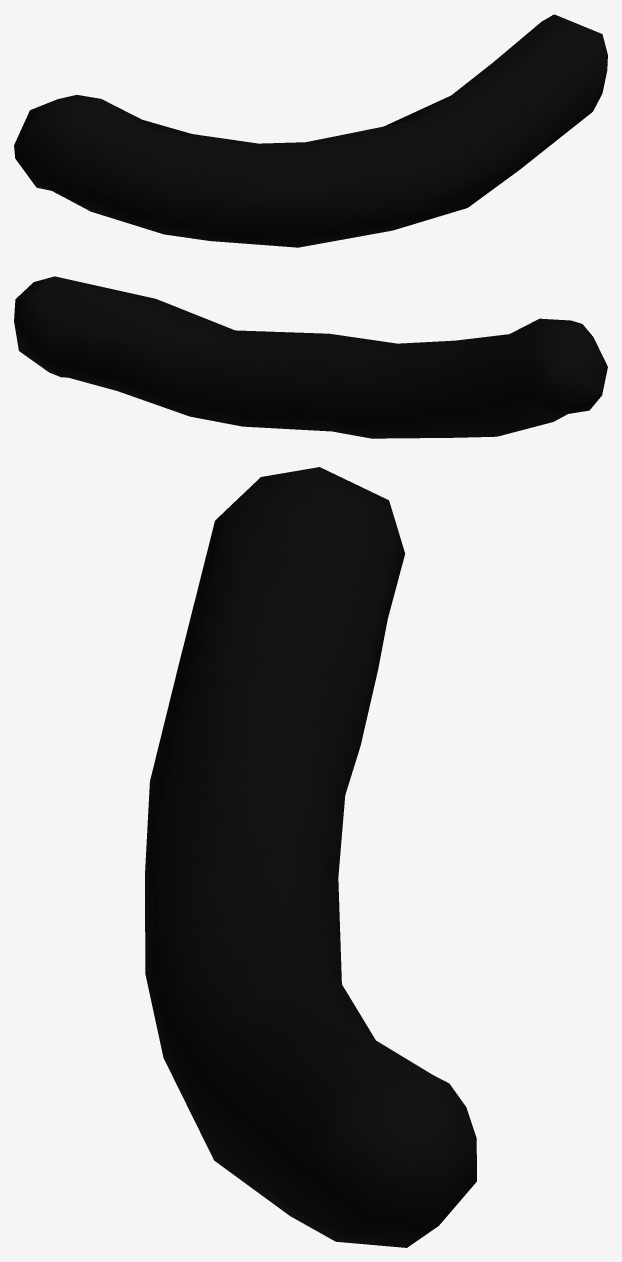
Rendered from smile.glb.
The picture shows the model from 3 angles, top to bottom: view 1: azimuth 30°, elevation 25°; view 2: azimuth 150°, elevation 25°; view 3: azimuth 270°, elevation 25°; orthographic projection. The views are drawn at different scales.
Visible parts, largest first — view 1: mouth_smile.001; view 2: mouth_smile.001; view 3: mouth_smile.001.
Part boxes in pixels (box(x1,y1,x2,y2)): mouth_smile.001: box(14, 14, 607, 247); mouth_smile.001: box(14, 276, 607, 438); mouth_smile.001: box(145, 467, 476, 1247).
Bounding box in the file's own units: 0.1829 × 0.0567 × 0.046.
1 material, 1 textured.
